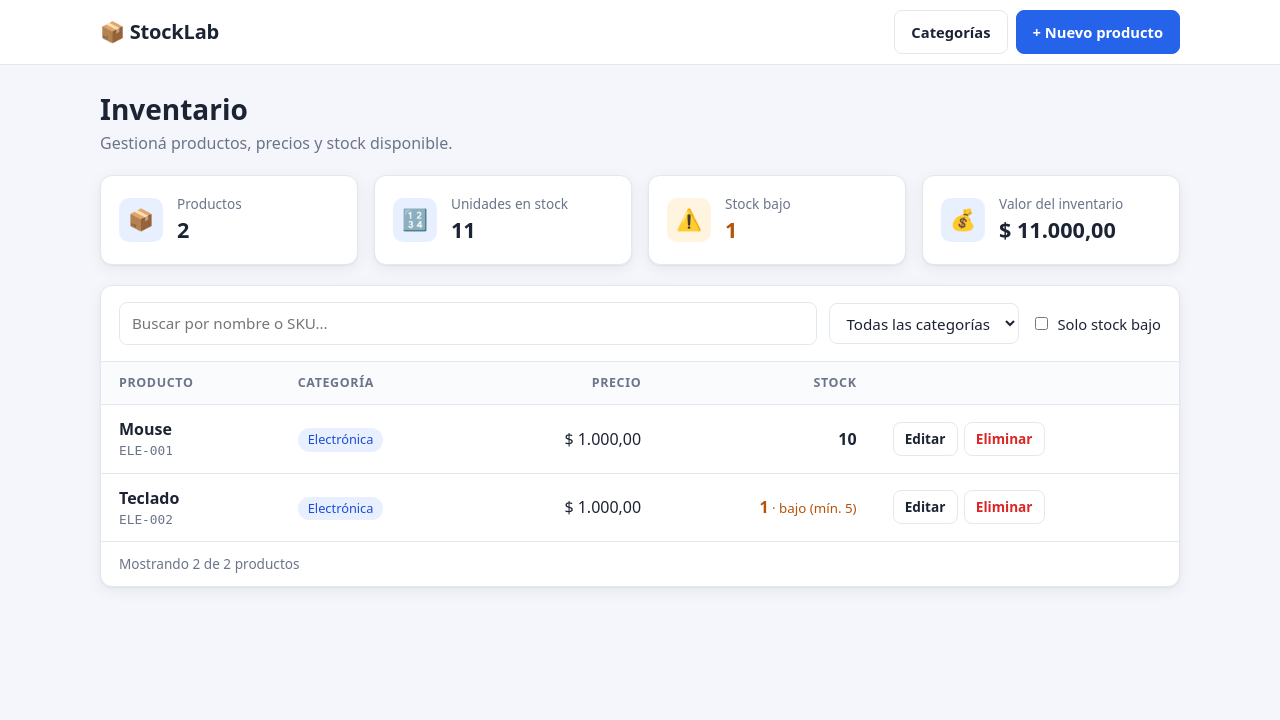
Test: App › filtra por stock bajo enviando el parámetro a la API
Expected: the text "Mouse" is shown, [119, 418, 172, 440]
Click the checkbox labelled "Solo stock bajo" at (1042,324), box [1036, 317, 1048, 330]
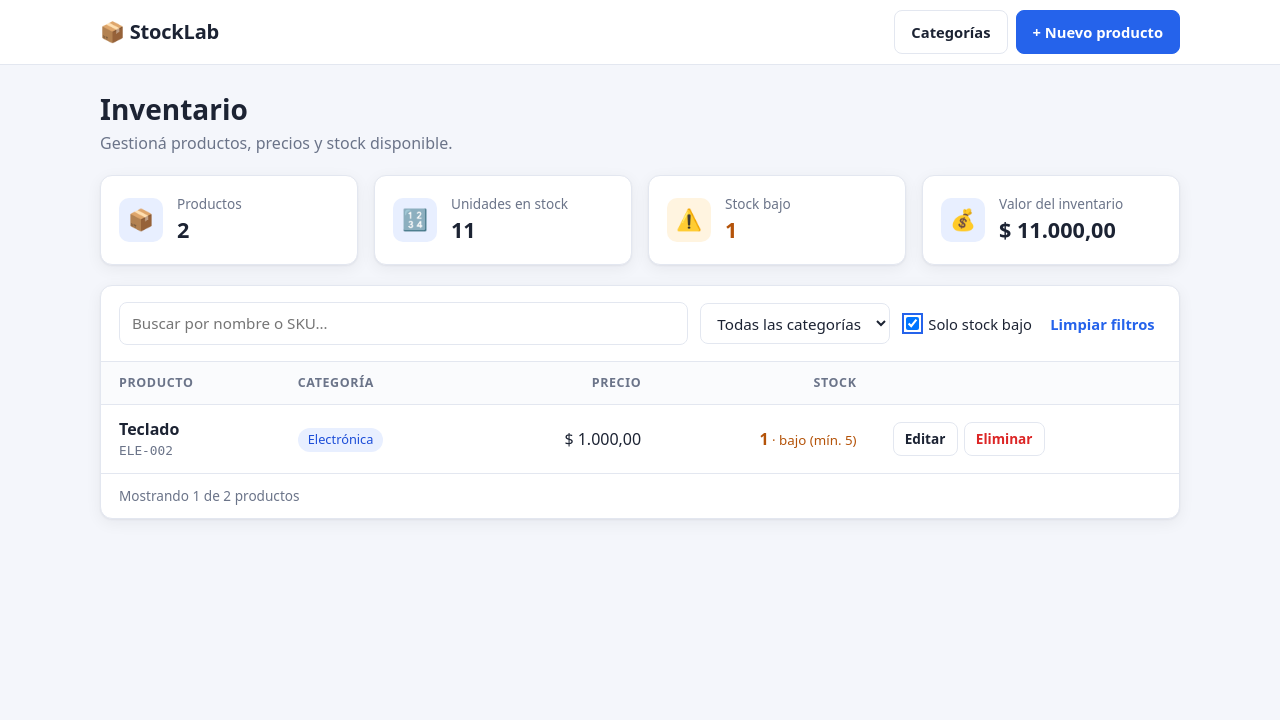
Result: the text "Mouse" is gone
